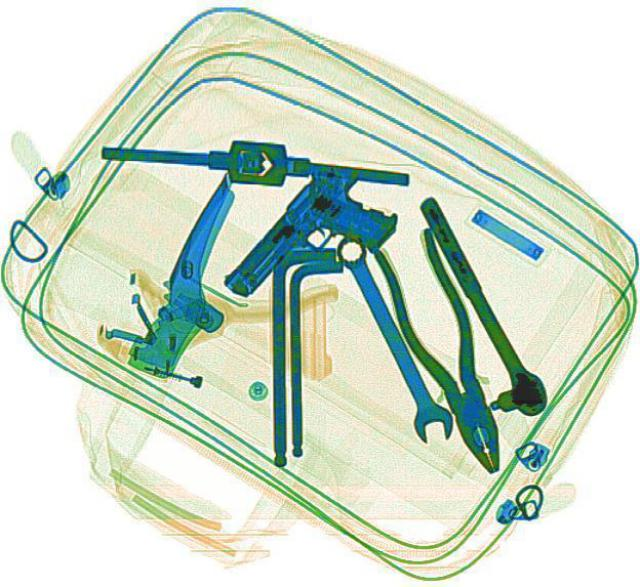Gun: (214, 154, 414, 333)
Pliers: (366, 224, 526, 481)
Wrench: (324, 231, 458, 446)
